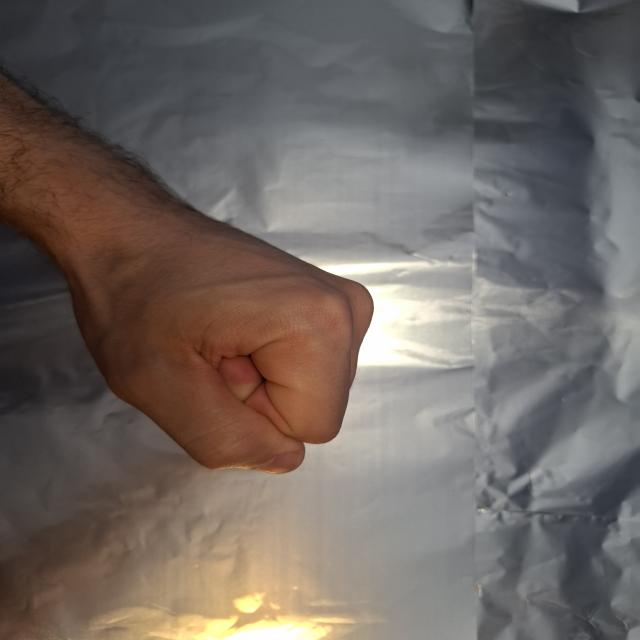glove_off: (56, 193, 375, 476)
